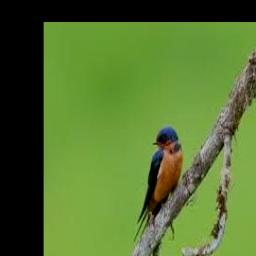Swallow: (134, 126, 183, 245)
